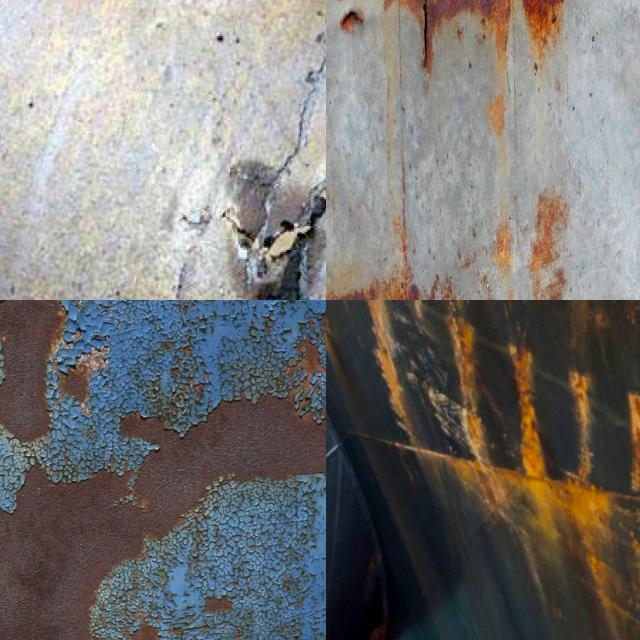Crack: (267, 53, 326, 210)
Uniform Corrosion: (0, 399, 326, 640), (419, 450, 640, 640), (382, 0, 512, 137), (446, 300, 494, 463), (367, 300, 416, 442), (509, 344, 547, 476), (288, 312, 326, 419), (568, 371, 592, 483), (522, 0, 563, 48), (628, 393, 640, 491)
